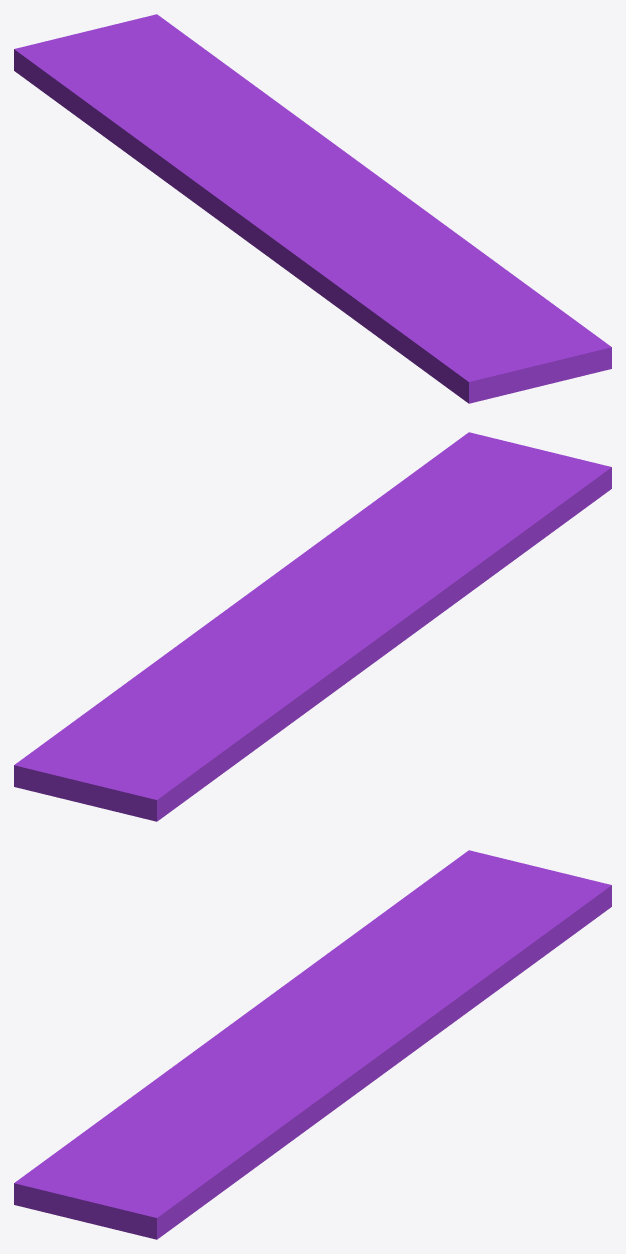
File: StairsStep_53_chunks.fbx
The picture shows the model from 3 angles, top to bottom: view 1: azimuth 30°, elevation 25°; view 2: azimuth 150°, elevation 25°; view 3: azimuth 330°, elevation 25°; orthographic projection.
Parts seen in each view (by area): view 1: StairsStep_53_8, StairsStep_53_4, StairsStep_53_5, StairsStep_53_2, StairsStep_53_9, StairsStep_53_1, StairsStep_53_6, StairsStep_53_7; view 2: StairsStep_53_8, StairsStep_53_4, StairsStep_53_5, StairsStep_53_2, StairsStep_53_9, StairsStep_53_1, StairsStep_53_6, StairsStep_53_7; view 3: StairsStep_53_4, StairsStep_53_8, StairsStep_53_1, StairsStep_53_5, StairsStep_53_6, StairsStep_53_9, StairsStep_53_2, StairsStep_53_7.
Boxes of the visible parts, <box> form: StairsStep_53_8: <box>14,14,222,170</box>; StairsStep_53_4: <box>403,251,611,403</box>; StairsStep_53_5: <box>229,198,452,275</box>; StairsStep_53_2: <box>294,254,451,390</box>; StairsStep_53_9: <box>195,129,346,201</box>; StairsStep_53_1: <box>318,153,512,274</box>; StairsStep_53_6: <box>204,49,339,148</box>; StairsStep_53_7: <box>150,145,281,216</box>; StairsStep_53_8: <box>14,683,300,821</box>; StairsStep_53_4: <box>352,432,611,547</box>; StairsStep_53_5: <box>311,538,437,657</box>; StairsStep_53_2: <box>415,482,594,616</box>; StairsStep_53_9: <box>197,614,335,685</box>; StairsStep_53_1: <box>204,505,369,625</box>; StairsStep_53_6: <box>61,631,217,730</box>; StairsStep_53_7: <box>264,625,373,721</box>; StairsStep_53_4: <box>14,1103,273,1239</box>; StairsStep_53_8: <box>325,850,611,966</box>; StairsStep_53_1: <box>247,1024,428,1173</box>; StairsStep_53_5: <box>189,1008,314,1111</box>; StairsStep_53_6: <box>408,919,573,1040</box>; StairsStep_53_9: <box>290,964,428,1035</box>; StairsStep_53_2: <box>35,1055,210,1167</box>; StairsStep_53_7: <box>253,955,361,1024</box>.
Bounding box in the file's own units: 200 × 28.98 × 1102.
